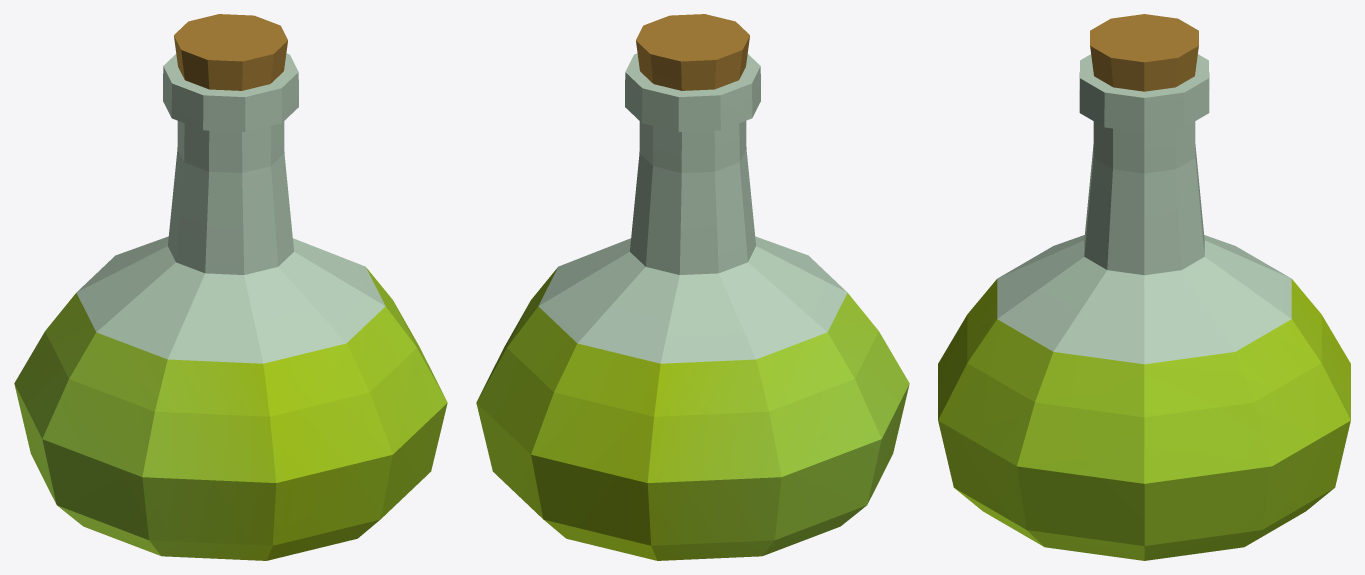
The model's file is Potion_A.fbx.
3 renders of one model, left to right at view 1: azimuth 30°, elevation 25°; view 2: azimuth 150°, elevation 25°; view 3: azimuth 270°, elevation 25°, orthographic.
Visible parts, largest first — view 1: Potion_A; view 2: Potion_A; view 3: Potion_A.
Part boxes in pixels (<box>): Potion_A: <box>14,14,447,560</box>; Potion_A: <box>476,14,909,560</box>; Potion_A: <box>938,14,1350,560</box>.
Size of the model in its own units: 17.8 by 20.41 by 16.93.
